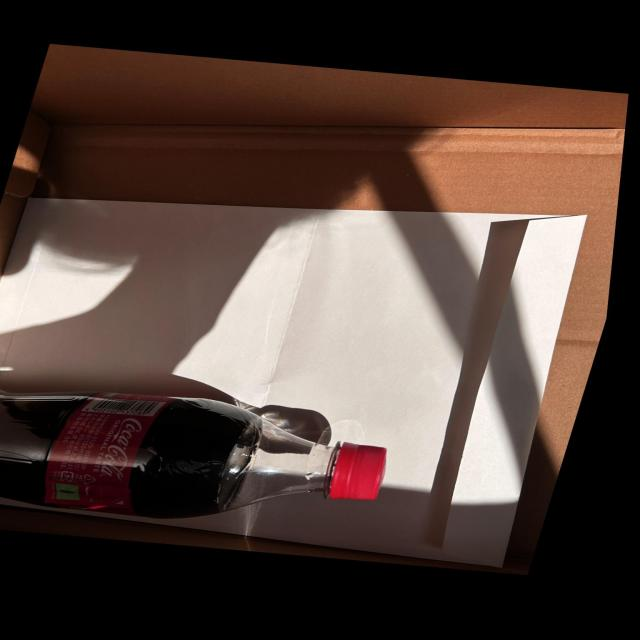high: (0, 393, 385, 519)
